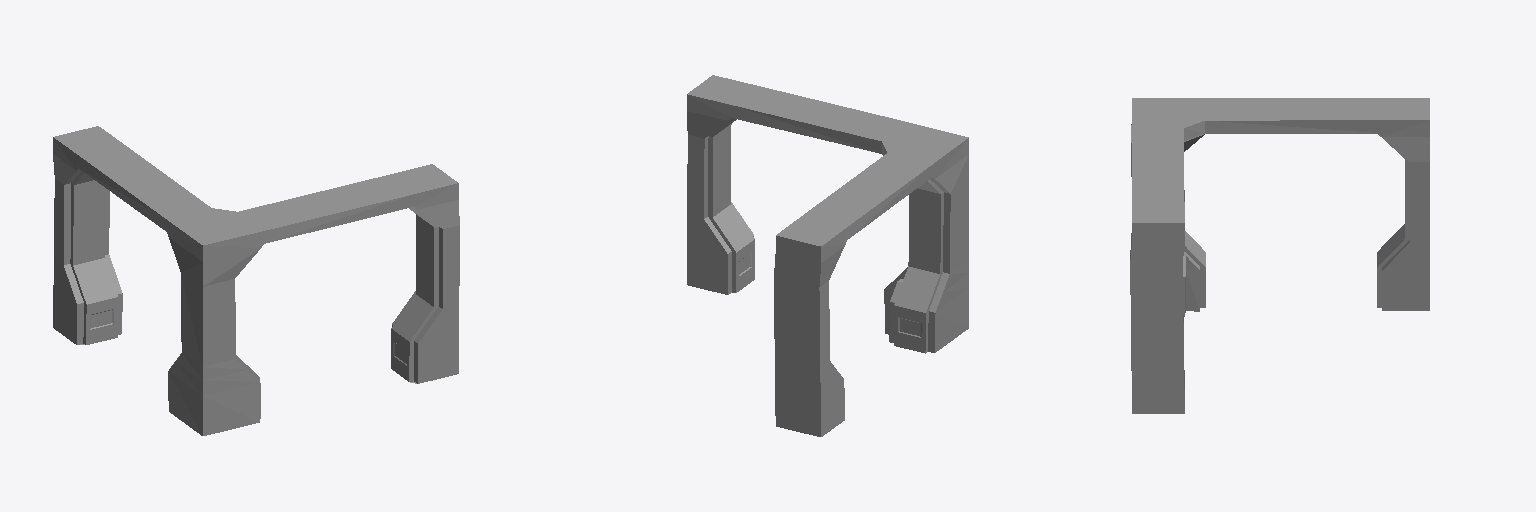
The model's file is interior_pillar_corner_01.obj.
The picture shows the model from 3 angles: view 1: azimuth 30°, elevation 25°; view 2: azimuth 150°, elevation 25°; view 3: azimuth 270°, elevation 25°; orthographic projection.
Parts seen in each view (by area): view 1: Plane.005_Plane.003; view 2: Plane.005_Plane.003; view 3: Plane.005_Plane.003.
Part boxes in pixels (left/top/right/bottom): Plane.005_Plane.003: left=53, top=126, right=459, bottom=435; Plane.005_Plane.003: left=687, top=75, right=968, bottom=436; Plane.005_Plane.003: left=1130, top=98, right=1429, bottom=413.
Size of the model in its own units: 5.65 by 4 by 5.69.